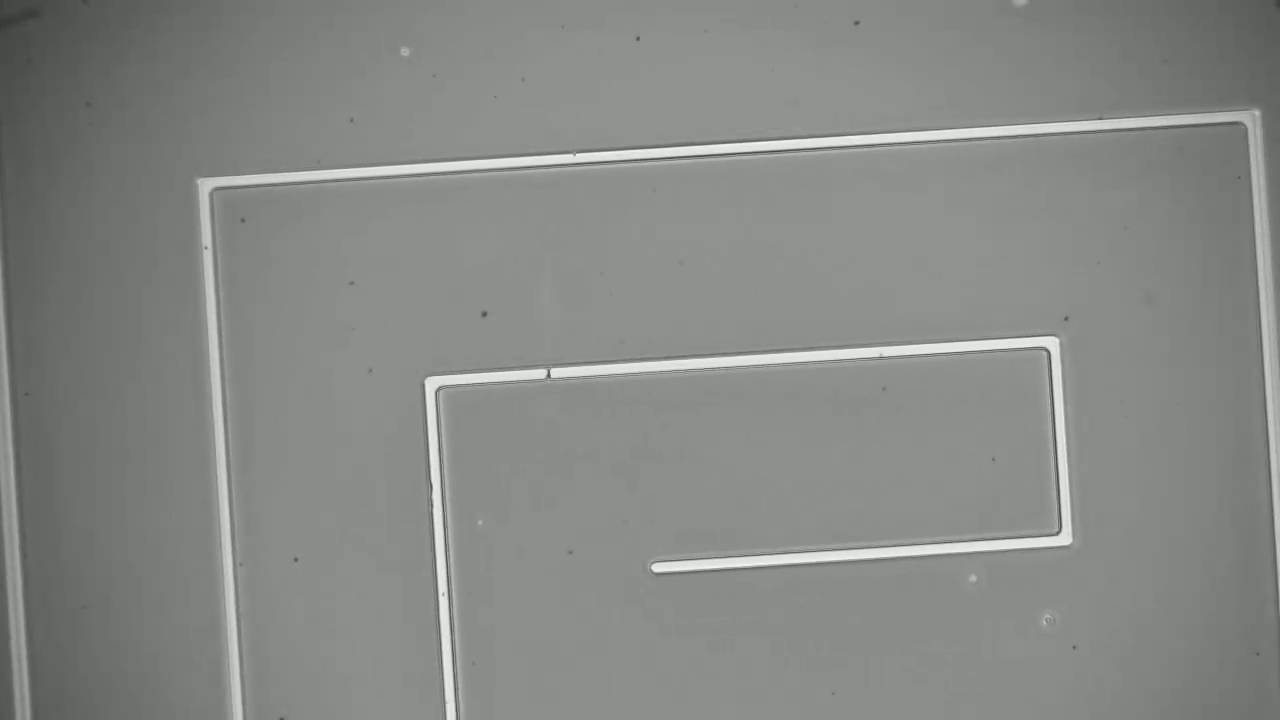stains_enbedded: (540, 362, 556, 386)
